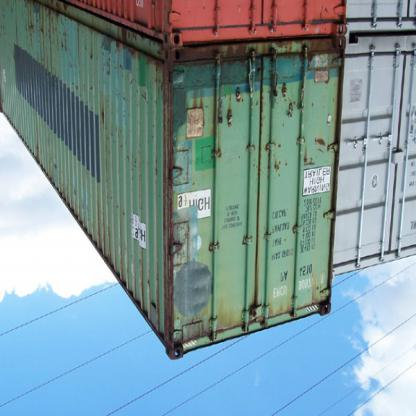Damage: (172, 55, 262, 105), (36, 190, 134, 226), (14, 15, 90, 53), (101, 248, 163, 290), (162, 220, 200, 279), (96, 66, 155, 93), (166, 103, 190, 147), (121, 158, 164, 182), (94, 98, 115, 138)
